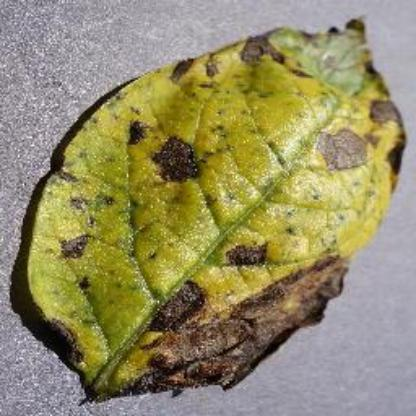Early-Blight: (22, 16, 408, 404)
